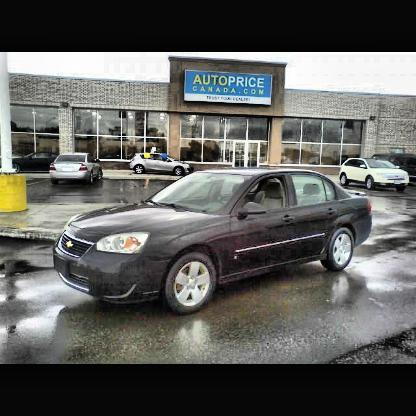Chevrolet Malibu Sedan 2007: (55, 171, 373, 314)
